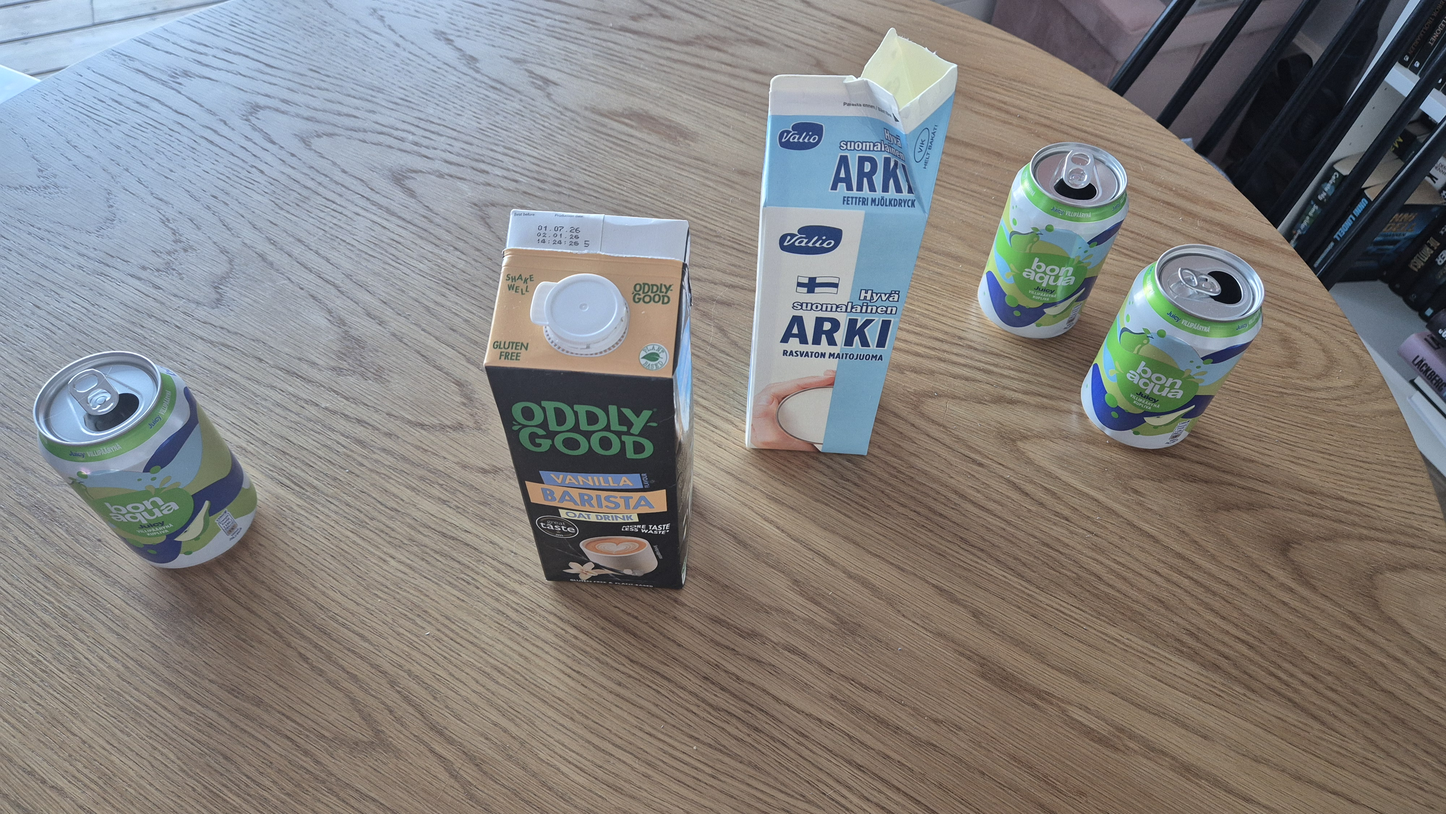Dryckeskartong: (745, 28, 957, 455), (485, 209, 695, 589)
Pantburk: (33, 351, 257, 570), (1081, 244, 1265, 449), (977, 142, 1129, 338)
